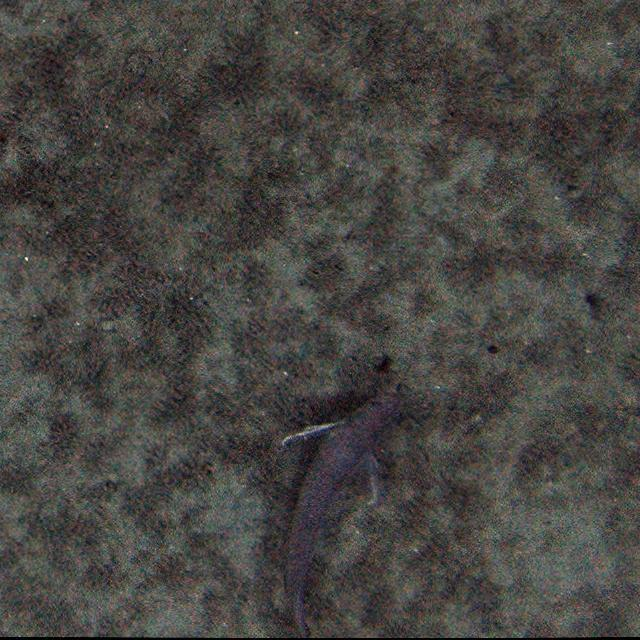roundfish: (276, 387, 420, 639)
